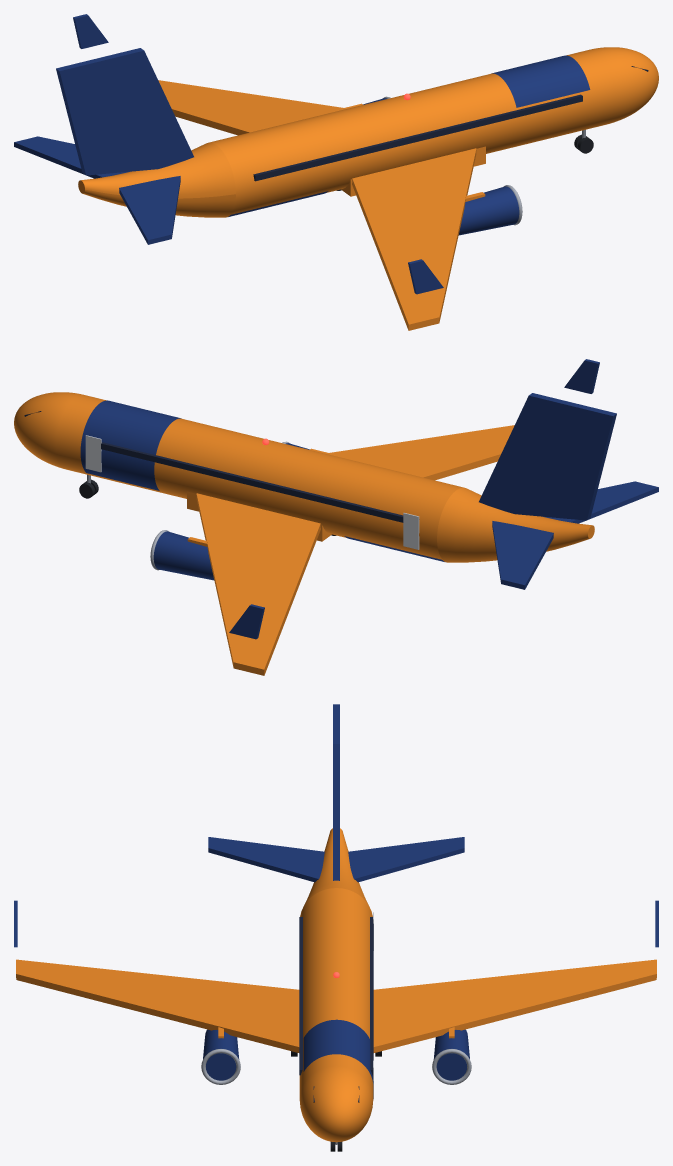
File: airliner-orange.glb
3 views of the same model, one above another, from view 1: azimuth 30°, elevation 25°; view 2: azimuth 150°, elevation 25°; view 3: azimuth 270°, elevation 25° (orthographic). The views are drawn at different scales.
Visible parts, largest first — view 1: Fuselage, WingR, Fin, TailCone, WingL, LiveryBand, StabR, Nose, Windows, NacelleR, Winglet (×2), StabL; view 2: Fuselage, WingL, Fin, TailCone, WingR, LiveryBand, StabL, Nose, Windows, NacelleL, Winglet (×2), StabR (+1 smaller); view 3: WingR, WingL, Fuselage, Nose, StabR, StabL, LiveryBand, TailCone, NacelleR, NacelleL, Fin, Windows.
Part boxes in pixels (x1,y1,x2,y2): Fuselage: (209, 49, 616, 216); WingR: (352, 148, 476, 330); Fin: (56, 48, 193, 175); TailCone: (81, 142, 235, 217); WingL: (158, 80, 347, 135); LiveryBand: (491, 55, 590, 107); StabR: (119, 176, 180, 244); Nose: (589, 47, 658, 123); Windows: (253, 94, 582, 181); NacelleR: (458, 186, 519, 235); Winglet (×2): (73, 14, 443, 294); StabL: (14, 136, 129, 178); Fuselage: (56, 394, 463, 561); WingL: (196, 493, 320, 675); Fin: (479, 393, 616, 520); TailCone: (437, 487, 591, 562); WingR: (325, 425, 514, 480); LiveryBand: (80, 400, 181, 490); StabL: (492, 521, 553, 589); Nose: (14, 392, 83, 468); Windows: (101, 442, 419, 522); NacelleL: (153, 531, 214, 580); Winglet (×2): (229, 359, 599, 639); StabR: (543, 481, 658, 523); WingR: (16, 959, 299, 1052); WingL: (373, 959, 656, 1052); Fuselage: (299, 888, 373, 1097); Nose: (299, 1066, 373, 1142); StabR: (208, 837, 324, 882); StabL: (348, 837, 464, 882); LiveryBand: (303, 1019, 373, 1083); TailCone: (304, 828, 368, 904); NacelleR: (203, 1029, 239, 1080); NacelleL: (433, 1029, 469, 1080); Fin: (333, 704, 339, 880); Windows: (299, 917, 373, 1075).
Size of the model in its own units: 35.05 by 11.75 by 34.2.
